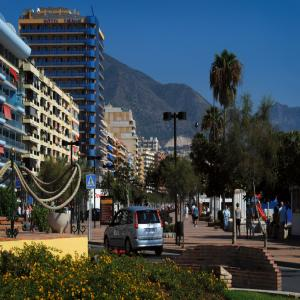Vehicle-registration-plate: (146, 227, 157, 234)
